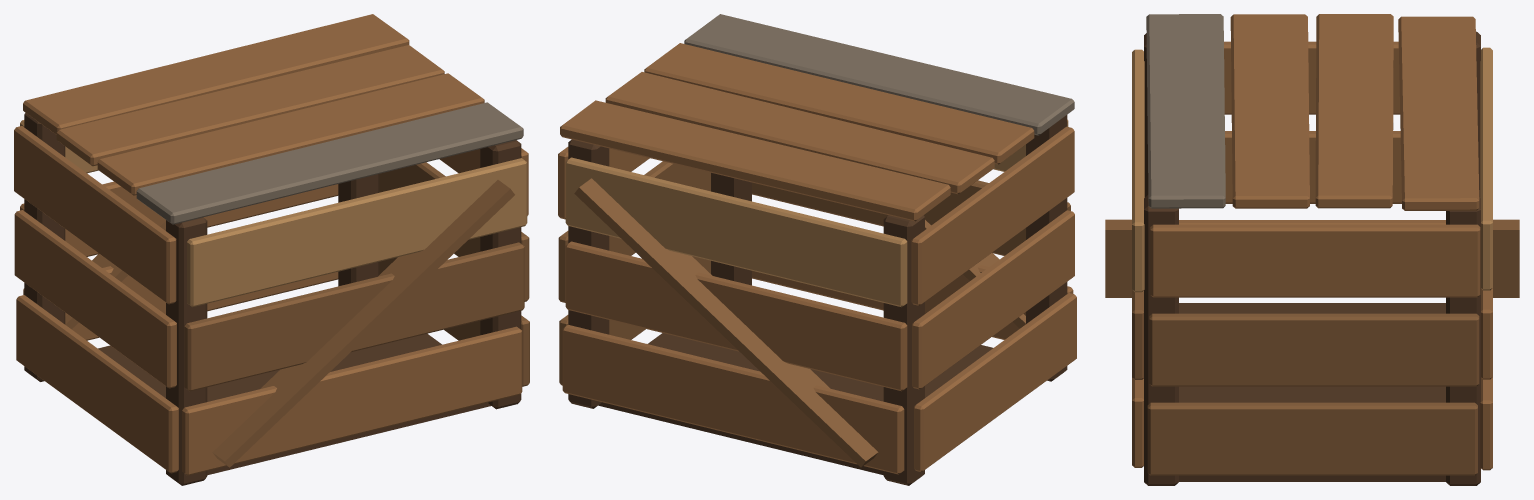
File: WoodenCrate.fbx
3 renders of one model, left to right at view 1: azimuth 30°, elevation 25°; view 2: azimuth 150°, elevation 25°; view 3: azimuth 270°, elevation 25°, orthographic. The views are drawn at different scales.
Parts seen in each view (by area): view 1: WoodenCrate; view 2: WoodenCrate; view 3: WoodenCrate.
Part boxes in pixels (<box>): WoodenCrate: <box>14,14,529,485</box>; WoodenCrate: <box>558,14,1076,485</box>; WoodenCrate: <box>1105,14,1519,485</box>.
Bounding box in the file's own units: 0.634 × 0.46 × 0.59.
1 material, 1 textured.
